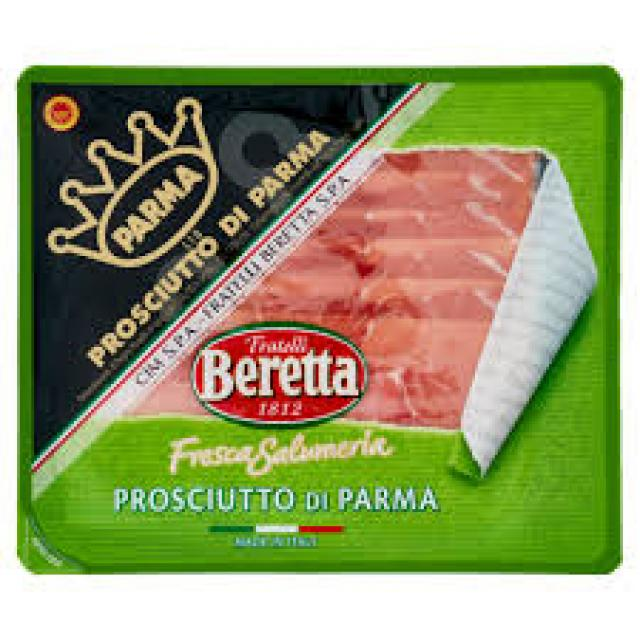Ham: (10, 64, 626, 574)
